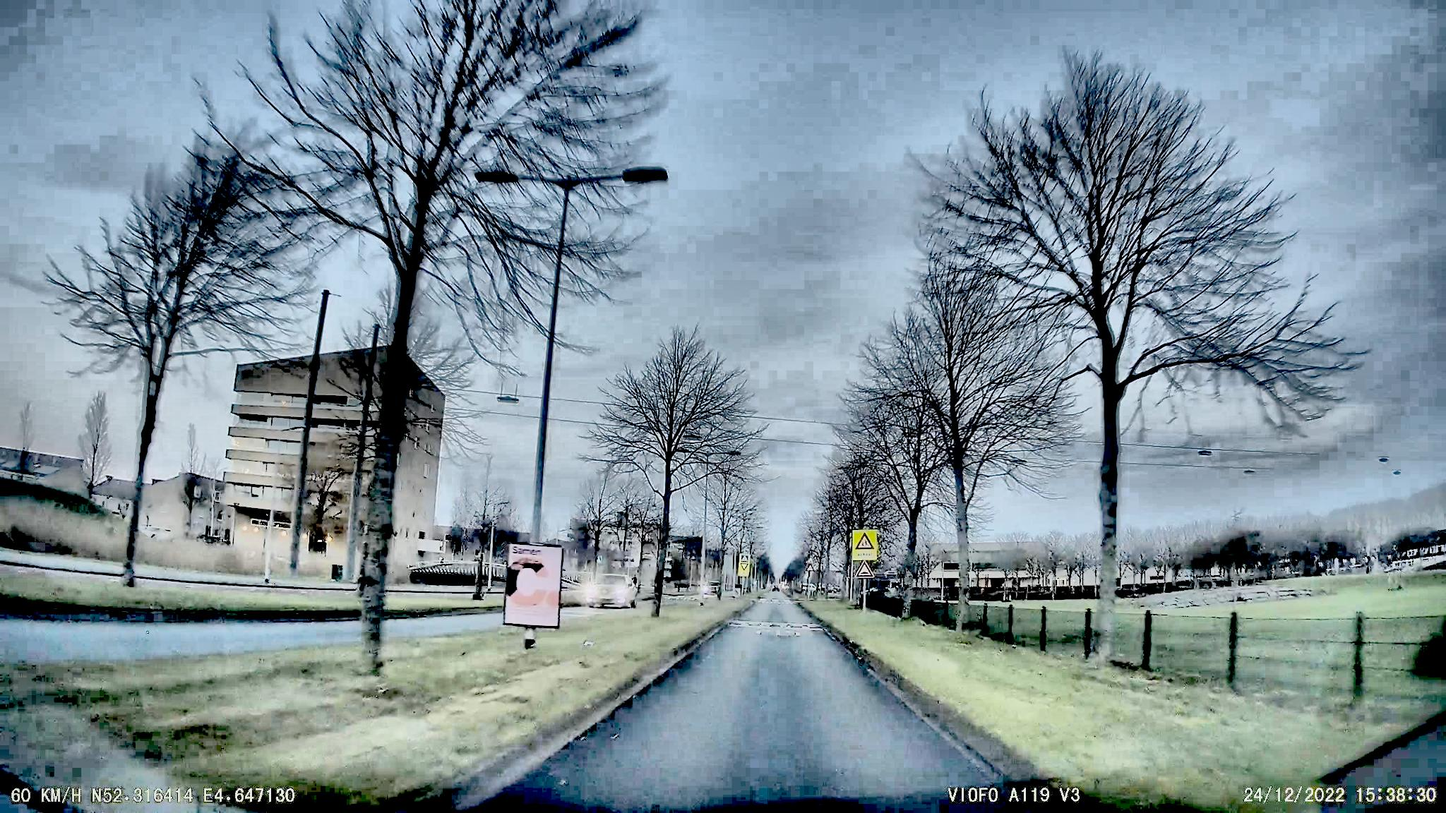Roads: (503, 608, 1016, 813)
